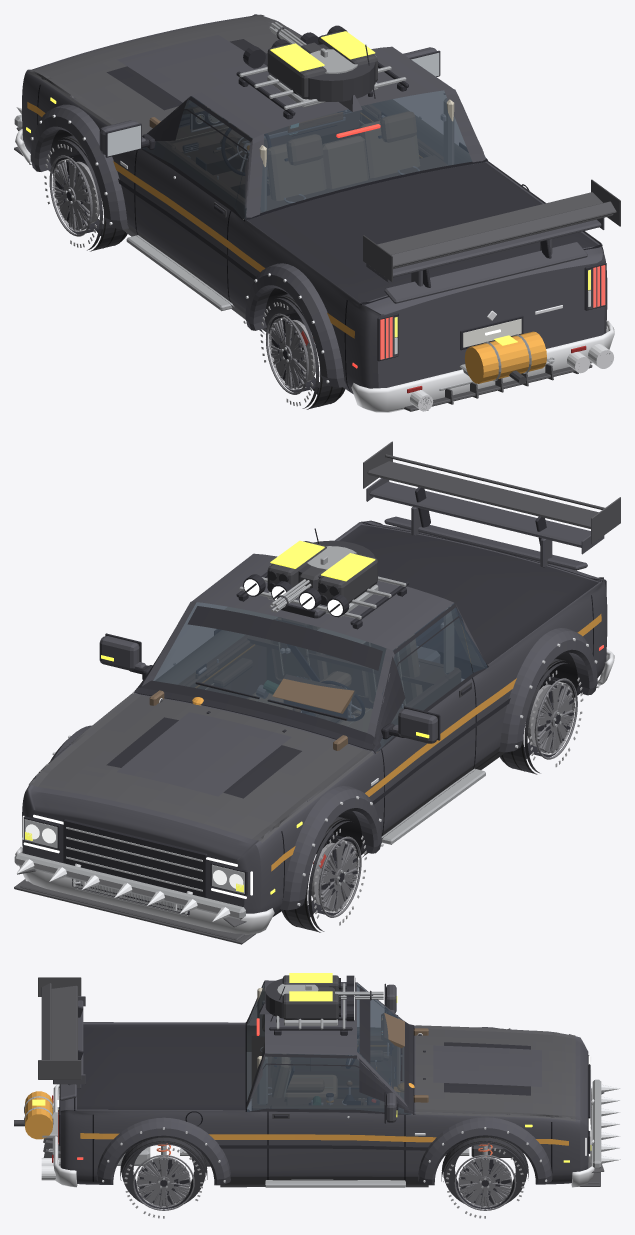
3 views of the same model, one above another, from view 1: azimuth 30°, elevation 25°; view 2: azimuth 150°, elevation 25°; view 3: azimuth 270°, elevation 25° (orthographic). The views are drawn at different scales.
Parts seen in each view (by area): view 1: BODY, PART_flares_widebody, PART_hood_carbon, PART_spoiler_gt, MESH_DRIVER_WINDOW, PART_roof_rack, PART_weapon_rockets, PART_spoiler_lip, PART_weapon_oil, PART_spoiler_wing, WHEEL_FL, WHEEL_RL (+8 smaller); view 2: BODY, PART_hood_carbon, PART_flares_widebody, PART_spoiler_gt, MESH_DRIVER_WINDOW, PART_spoiler_wing, PART_weapon_rockets, PART_roof_rack, PART_weapon_spikes, PART_hood_vent, WHEEL_FL, WHEEL_RL (+7 smaller); view 3: BODY, PART_hood_carbon, PART_flares_widebody, PART_spoiler_gt, PART_weapon_rockets, WHEEL_FR, WHEEL_RR, PART_roof_rack, PART_weapon_spikes, PART_weapon_oil, PART_hood_vent, RIM_aero_FR (+12 smaller).
Part boxes in pixels (<box>): BODY: <box>15,14,614,412</box>; PART_flares_widebody: <box>29,104,346,387</box>; PART_hood_carbon: <box>28,14,301,136</box>; PART_spoiler_gt: <box>363,179,620,287</box>; MESH_DRIVER_WINDOW: <box>142,96,252,208</box>; PART_roof_rack: <box>236,25,408,119</box>; PART_weapon_rockets: <box>267,31,378,107</box>; PART_spoiler_lip: <box>384,242,587,303</box>; PART_weapon_oil: <box>459,331,546,384</box>; PART_spoiler_wing: <box>366,218,604,286</box>; WHEEL_FL: <box>44,135,127,251</box>; WHEEL_RL: <box>260,294,345,409</box>; BODY: <box>15,520,614,934</box>; PART_hood_carbon: <box>29,693,373,842</box>; PART_flares_widebody: <box>49,628,599,910</box>; PART_spoiler_gt: <box>363,441,620,545</box>; MESH_DRIVER_WINDOW: <box>376,603,472,752</box>; PART_spoiler_wing: <box>366,478,604,567</box>; PART_weapon_rockets: <box>267,540,378,616</box>; PART_roof_rack: <box>236,540,408,629</box>; PART_weapon_spikes: <box>14,852,245,921</box>; PART_hood_vent: <box>106,717,301,798</box>; WHEEL_FL: <box>282,816,366,932</box>; WHEEL_RL: <box>500,658,583,774</box>; BODY: <box>48,980,594,1187</box>; PART_hood_carbon: <box>415,1025,575,1121</box>; PART_flares_widebody: <box>96,1027,552,1184</box>; PART_spoiler_gt: <box>38,977,83,1079</box>; PART_weapon_rockets: <box>282,973,340,1025</box>; WHEEL_FR: <box>441,1137,528,1218</box>; WHEEL_RR: <box>120,1137,207,1218</box>; PART_roof_rack: <box>265,975,355,1035</box>; PART_weapon_spikes: <box>592,1079,620,1168</box>; PART_weapon_oil: <box>14,1091,57,1139</box>; PART_hood_vent: <box>444,1042,530,1095</box>; RIM_aero_FR: <box>454,1154,516,1210</box>.
Size of the model in its own units: 2.65 by 2 by 5.59.
